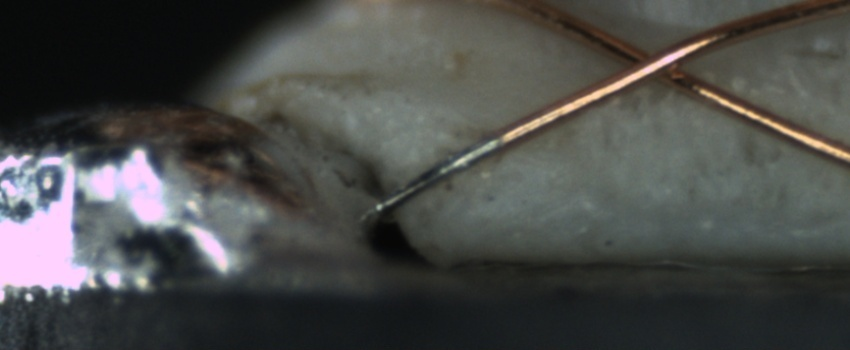CL: (597, 29, 707, 94)
TS: (379, 136, 502, 212)
